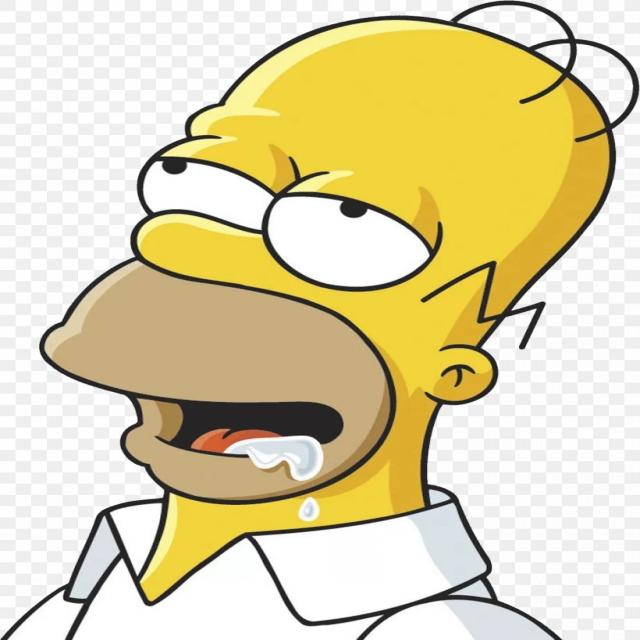Homer Simpson: (33, 0, 640, 574)
